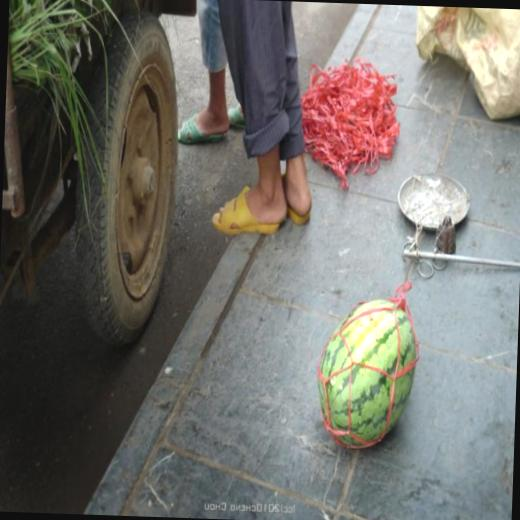Cherry: (315, 295, 422, 453)
